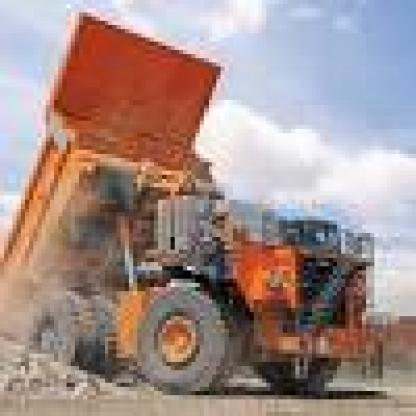dump_truck: (8, 0, 391, 379)
